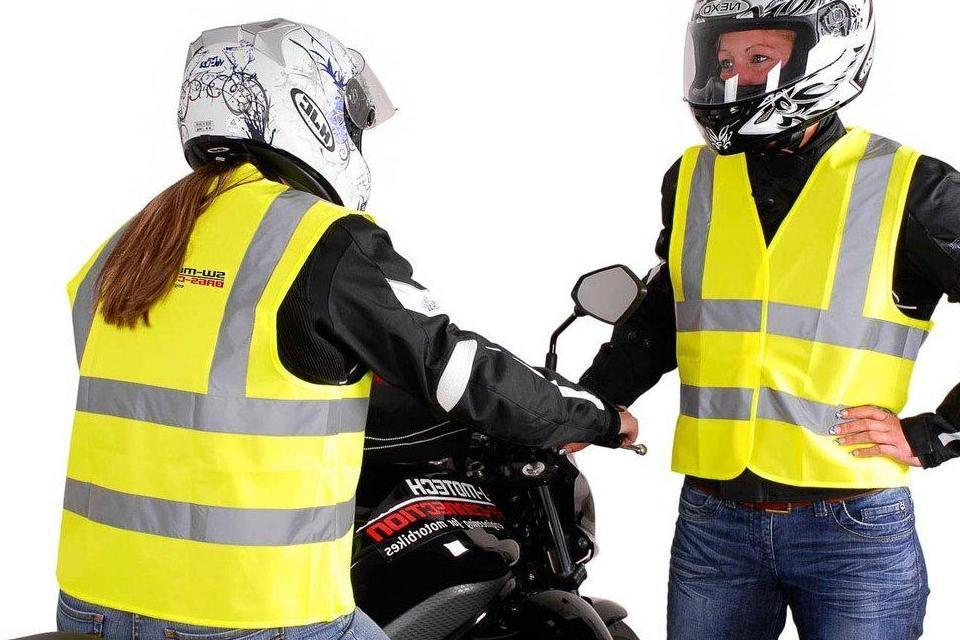Vest: (67, 197, 367, 616), (673, 143, 913, 472)
